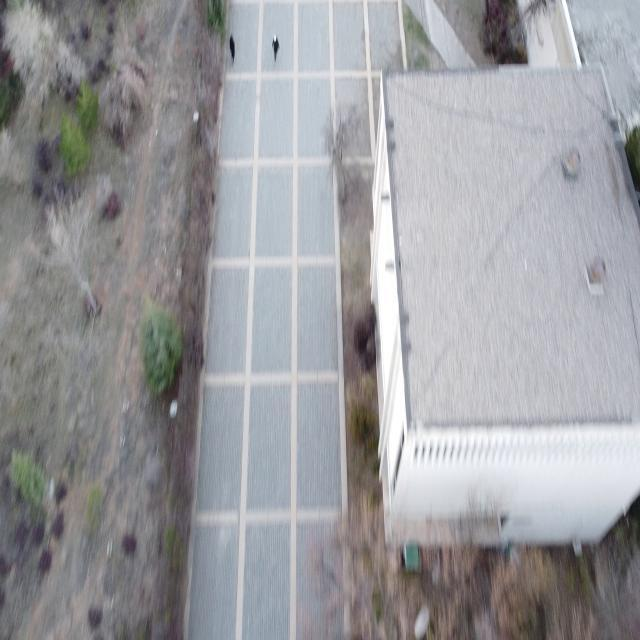vehicle: (228, 34, 236, 66), (271, 34, 279, 62)
